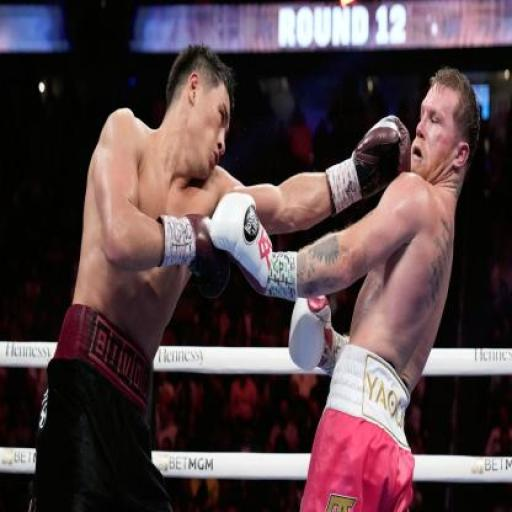Fighting: (35, 48, 472, 512)
